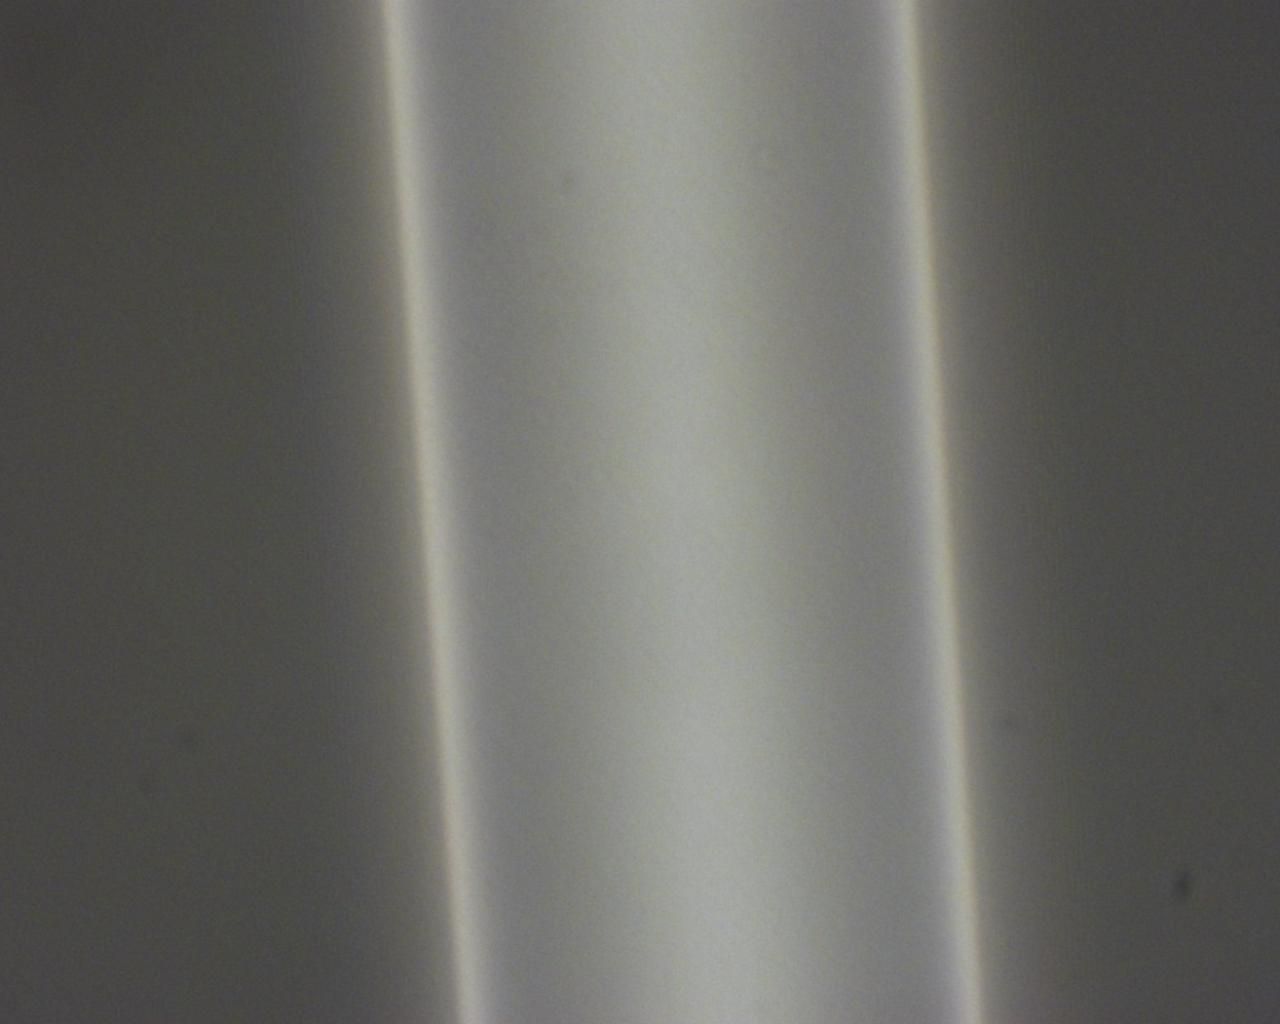fiber: (0, 206, 760, 436), (802, 0, 1130, 460), (0, 584, 779, 625), (779, 643, 1280, 659)
